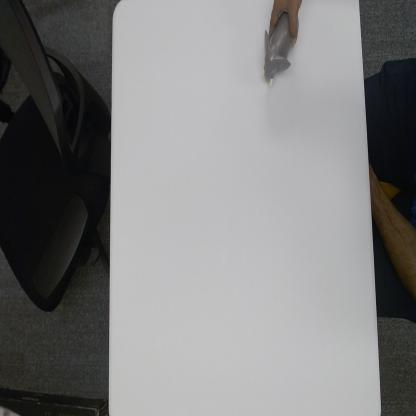Elephant: (262, 10, 300, 88)
Hand: (266, 1, 304, 43)
